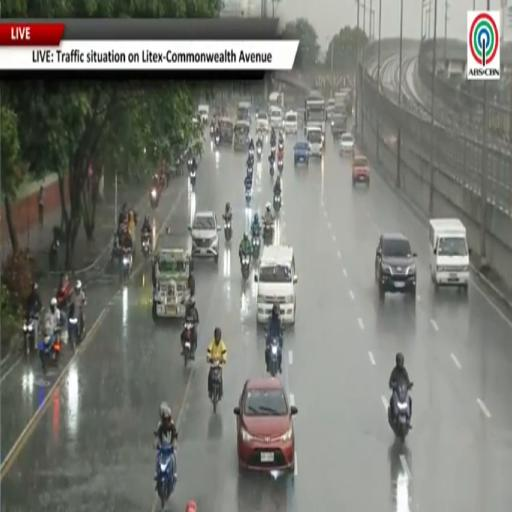car: (234, 377, 297, 473), (375, 233, 416, 299), (189, 212, 220, 263), (306, 125, 324, 157), (352, 155, 369, 186), (331, 115, 347, 139), (294, 141, 309, 165), (340, 134, 354, 156), (285, 110, 297, 134), (270, 107, 282, 130), (256, 112, 269, 133), (198, 105, 209, 124), (326, 99, 335, 118)
jeepney: (234, 121, 250, 150), (218, 118, 233, 145), (237, 102, 251, 123)
motorcycle: (388, 381, 412, 442), (156, 444, 175, 509), (39, 328, 61, 373), (23, 313, 38, 354), (68, 312, 82, 349), (183, 320, 194, 367), (211, 361, 221, 412), (56, 281, 73, 310), (268, 338, 280, 377), (49, 239, 59, 271), (122, 250, 132, 280), (141, 234, 151, 259), (241, 255, 250, 280), (263, 224, 273, 245), (252, 234, 260, 260), (150, 187, 158, 210), (225, 220, 232, 242), (273, 195, 281, 213), (189, 169, 196, 186), (246, 166, 253, 180), (245, 188, 251, 204), (277, 158, 283, 173), (270, 160, 275, 177), (188, 158, 194, 172), (247, 159, 253, 172), (248, 148, 254, 160), (257, 146, 261, 161), (215, 135, 220, 146), (278, 141, 283, 151), (210, 125, 214, 137), (271, 141, 275, 152)
truck: (152, 232, 193, 321), (304, 91, 326, 143), (334, 88, 352, 116), (334, 90, 347, 115), (268, 91, 284, 109)
